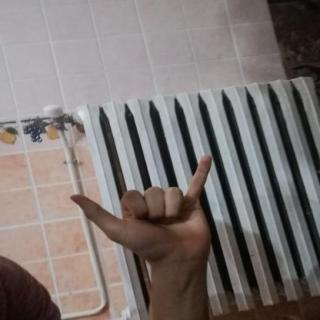YA: (58, 149, 232, 273)
